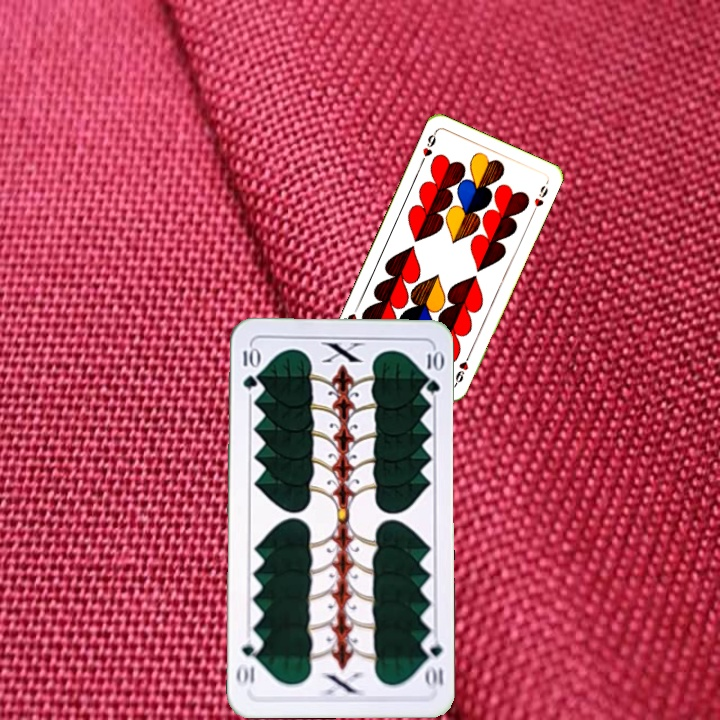G10: (419, 632, 446, 691), (239, 343, 259, 392)
H9: (417, 127, 439, 166), (451, 349, 473, 388)
